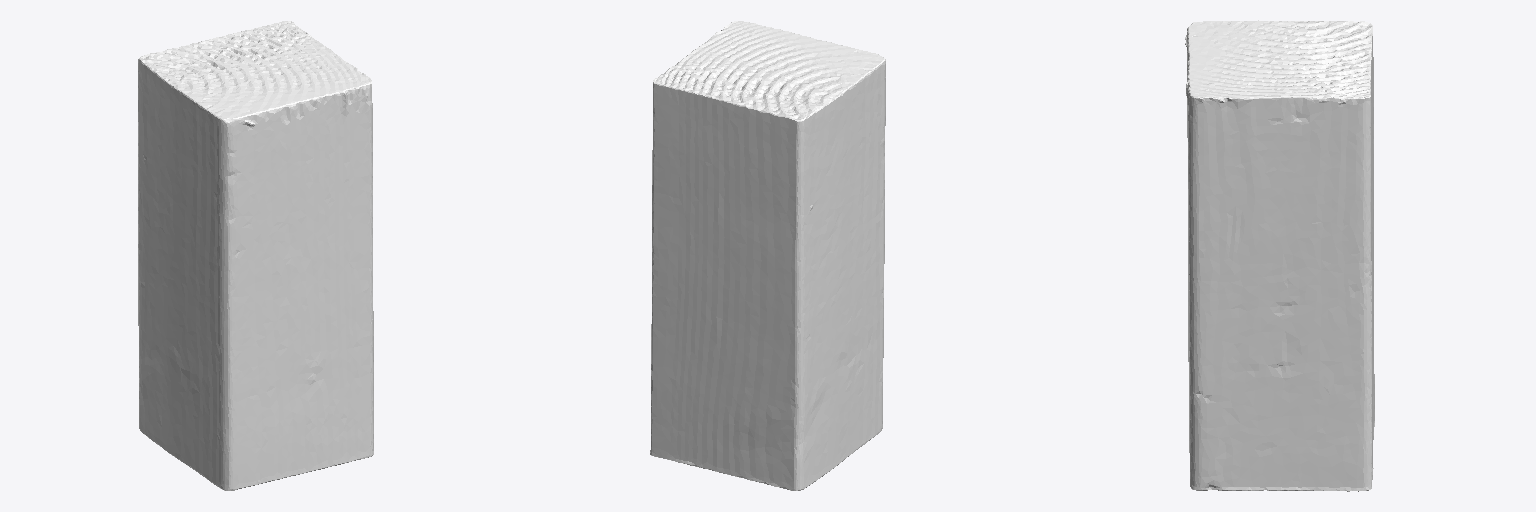
robot.urdf — d_cups:
<robot name="d_cups">
	<link name="base_link">
		<visual>
			<origin xyz="0.018377150074668475 0.059786665220060674 -0.03158304348204601" rpy="0.0 0.0 0.0" />
			<geometry>
				<mesh filename="065-d_cups/google_16k/textured.obj" scale="1 1 1" />
			</geometry>
			<material name="texture">
				<color rgba="1.0 1.0 1.0 1.0" />
			</material>
		</visual>
		<collision>
			<origin xyz="0.018377150074668475 0.059786665220060674 -0.03158304348204601" rpy="0.0 0.0 0.0" />
			<geometry>
				<mesh filename="065-d_cups/google_16k/textured_vhacd.obj" scale="1 1 1" />
			</geometry>
		</collision>
		<inertial>
			<mass value="0.019" />
			<inertia ixx="1e-3" ixy="0.0" ixz="0.0" iyy="1e-3" iyz="0.0" izz="1e-3" />
		</inertial>
	</link>
</robot>

--- Facts derived from the render (not from the file) ---
Views: 3 orthographic renders of the robot side by side, from view 1: azimuth 30°, elevation 25°; view 2: azimuth 150°, elevation 25°; view 3: azimuth 270°, elevation 25°.
Robot: d_cups — 1 links, 0 joints (none); root link base_link; default pose: every joint at zero.
Links seen in each view (by area): view 1: base_link; view 2: base_link; view 3: base_link.
Link boxes in pixels (<box>): base_link: <box>138,21,373,490</box>; base_link: <box>650,21,885,490</box>; base_link: <box>1185,20,1374,491</box>.
Bounding box of the posed robot: 0.0906 × 0.0899 × 0.206 m (x, y, z).
Meshes: 1 distinct files referenced, 1 mesh visuals loaded (1 OBJ).